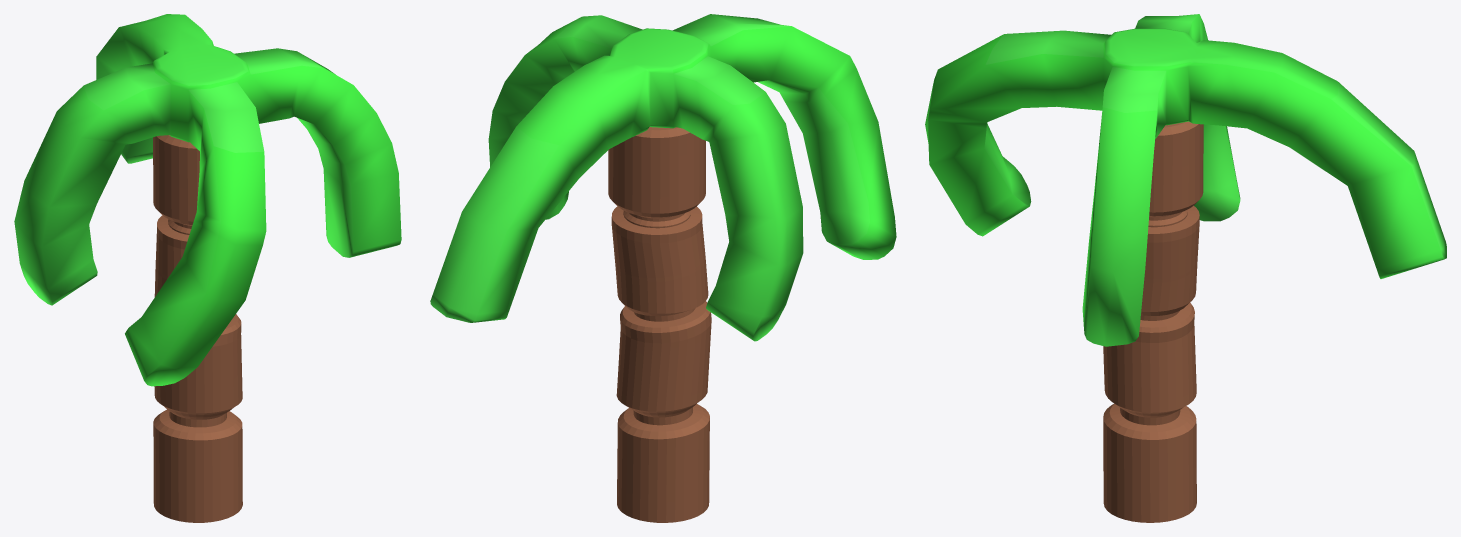
File: palmtree.glb
3 renders of one model, left to right at view 1: azimuth 30°, elevation 25°; view 2: azimuth 150°, elevation 25°; view 3: azimuth 270°, elevation 25°, orthographic. The views are drawn at different scales.
Visible parts, largest first — view 1: Cube, Cylinder; view 2: Cube, Cylinder; view 3: Cube, Cylinder.
Part boxes in pixels (x1,y1,x2,y2): Cube: (14,14,401,386); Cylinder: (153,135,242,522); Cube: (430,14,896,341); Cylinder: (608,127,711,522); Cube: (925,14,1446,346); Cylinder: (1103,121,1203,522).
Size of the model in its own units: 8.27 by 10.86 by 11.19.
2 materials, 2 textured.
